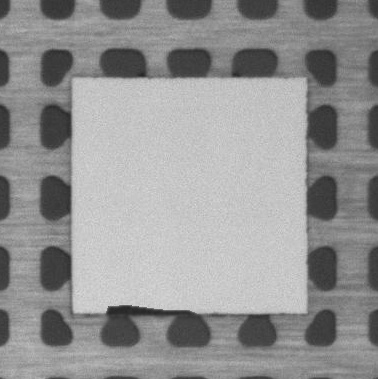DIE_BROKEN: (105, 299, 200, 318)
